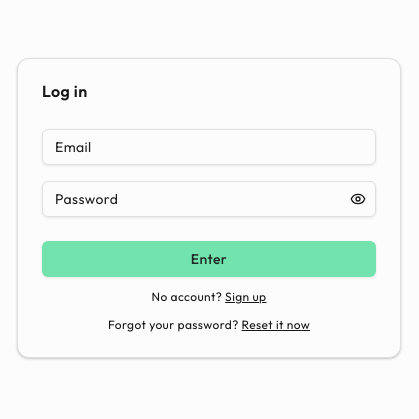
Login (logic only) › displays API error message when provided
Type "user@ex.com" into the field with placeholder "Email" at [209, 147], box 42,129 -> 376,165
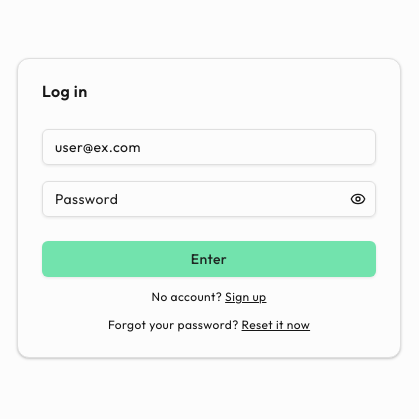
Type "pw" into the password field with placeholder "Password" at [209, 199], box 42,181 -> 376,217
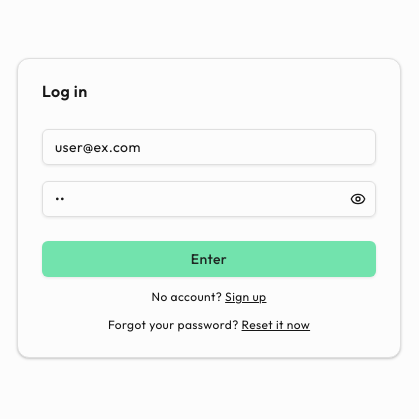
Click the button "Enter" at [209, 259], box 42,241 -> 376,277
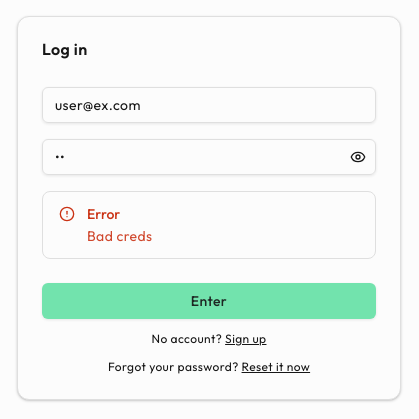
Check: the text "Bad creds" is shown, box 87,227 -> 152,245
